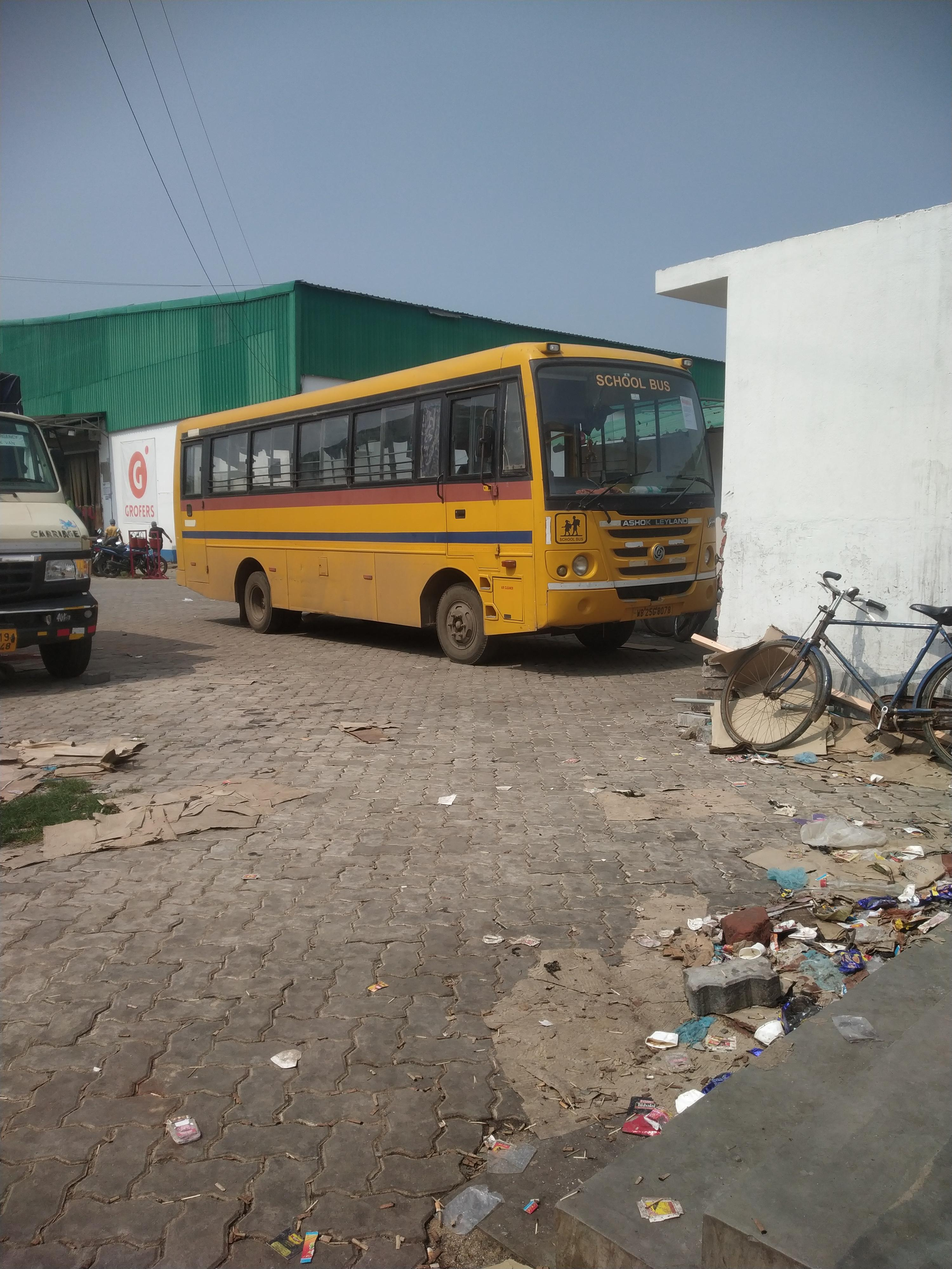non-ambulance: (128, 288, 764, 719)
